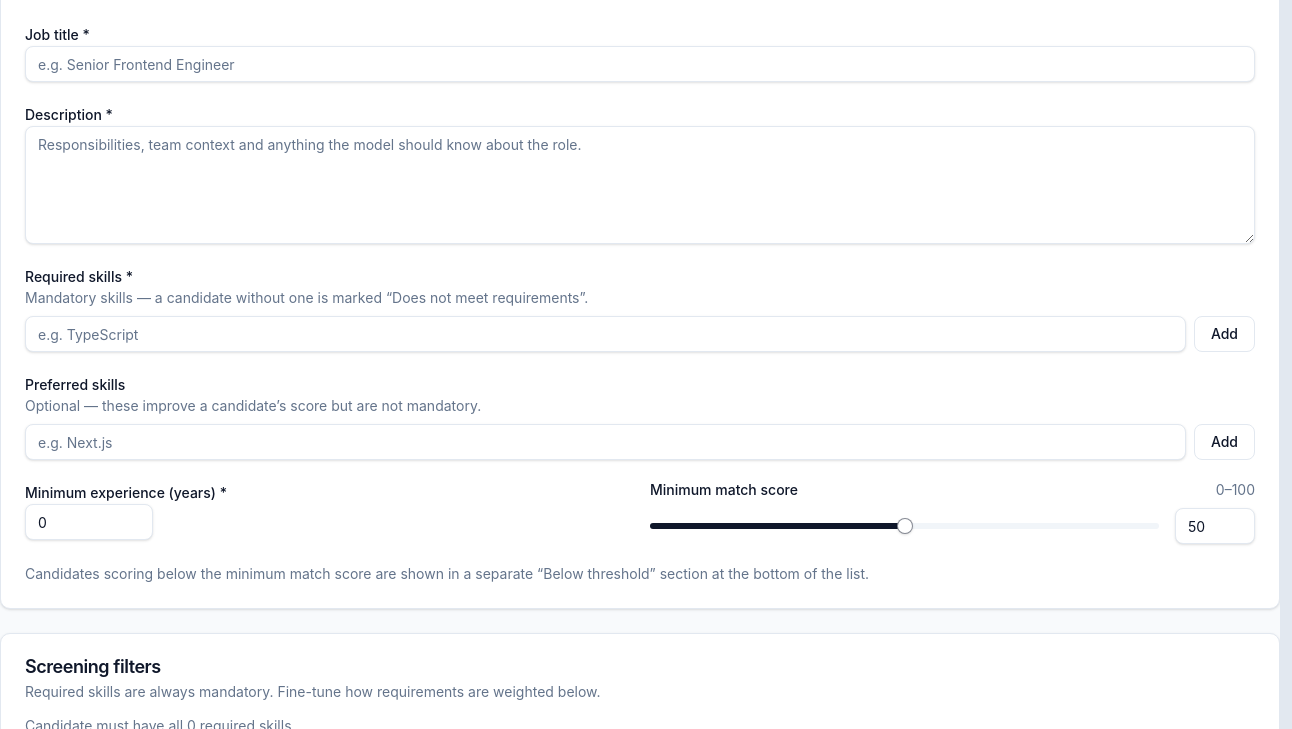
Test case: JobForm › maps backend field errors onto the form
Type "Frontend Engineer" into the field labelled "Job title *" at (640,64), box [25,46,1255,82]
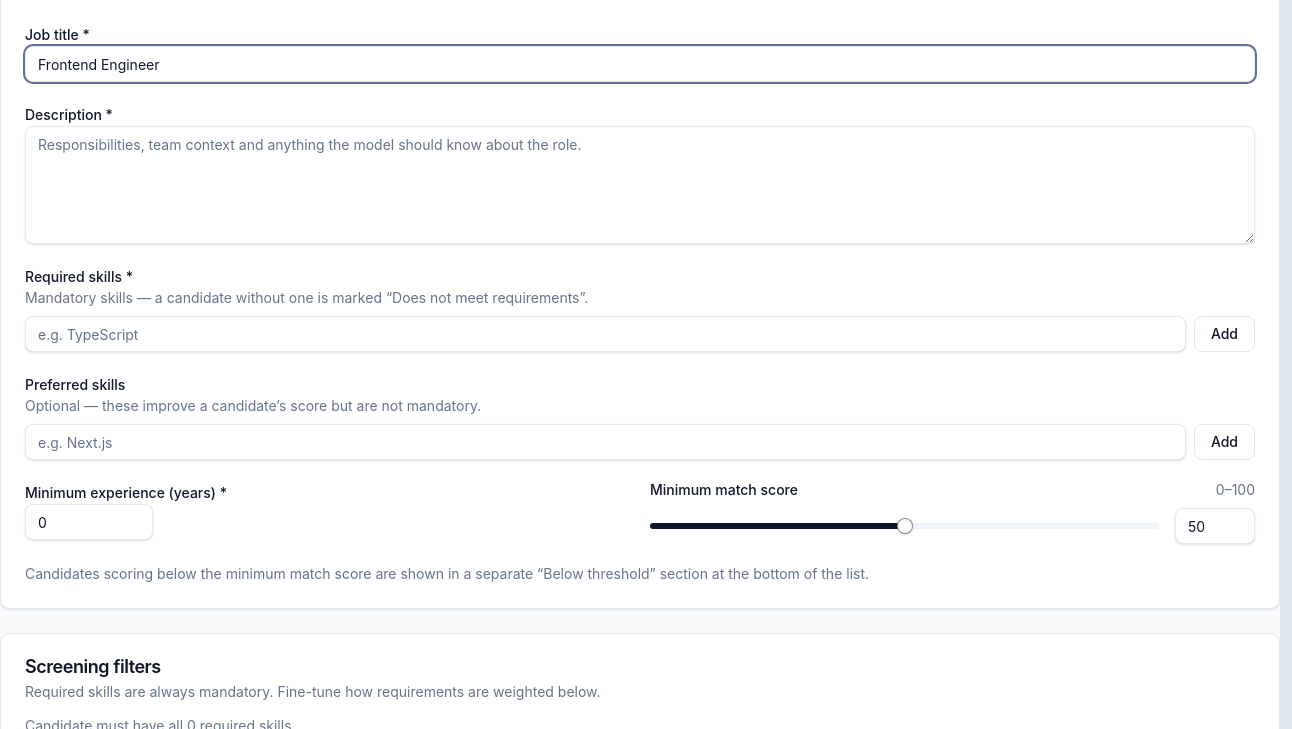
Type "Build the recruiter workspace." into the text box labelled "Description *" at (640,185), box [25,126,1255,244]
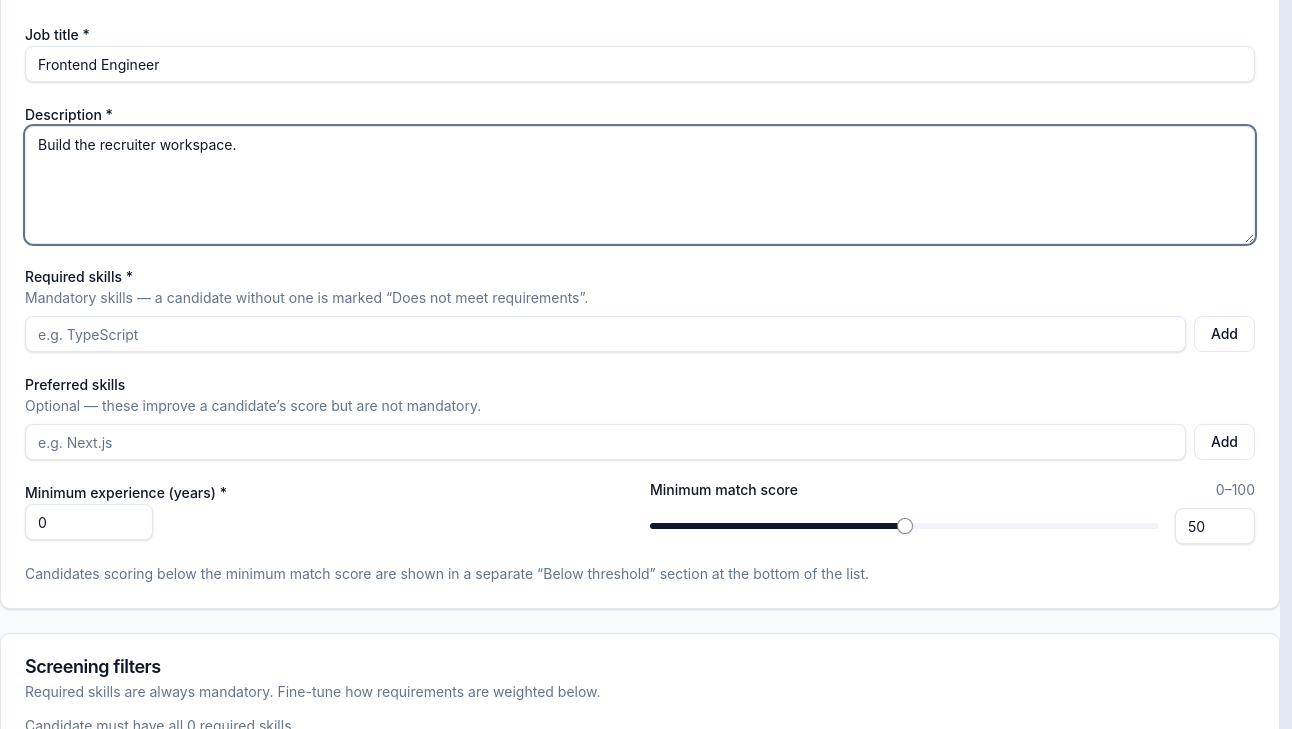
Type "React" into the field labelled "Required skills *" at (605,334), box [25,316,1186,352]
Then press Enter
(page scrolled)
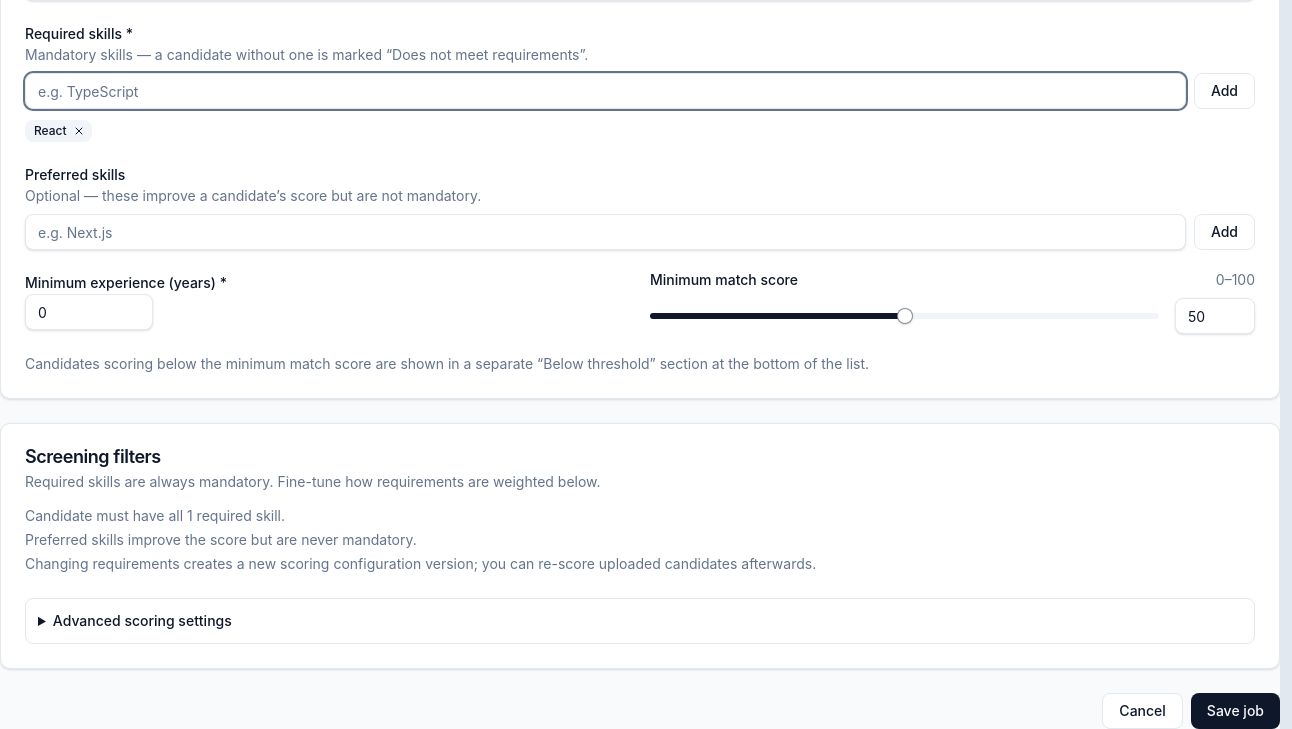
Click the button "Save job" at (1235,711), box [1191,693,1280,728]
(page scrolled)
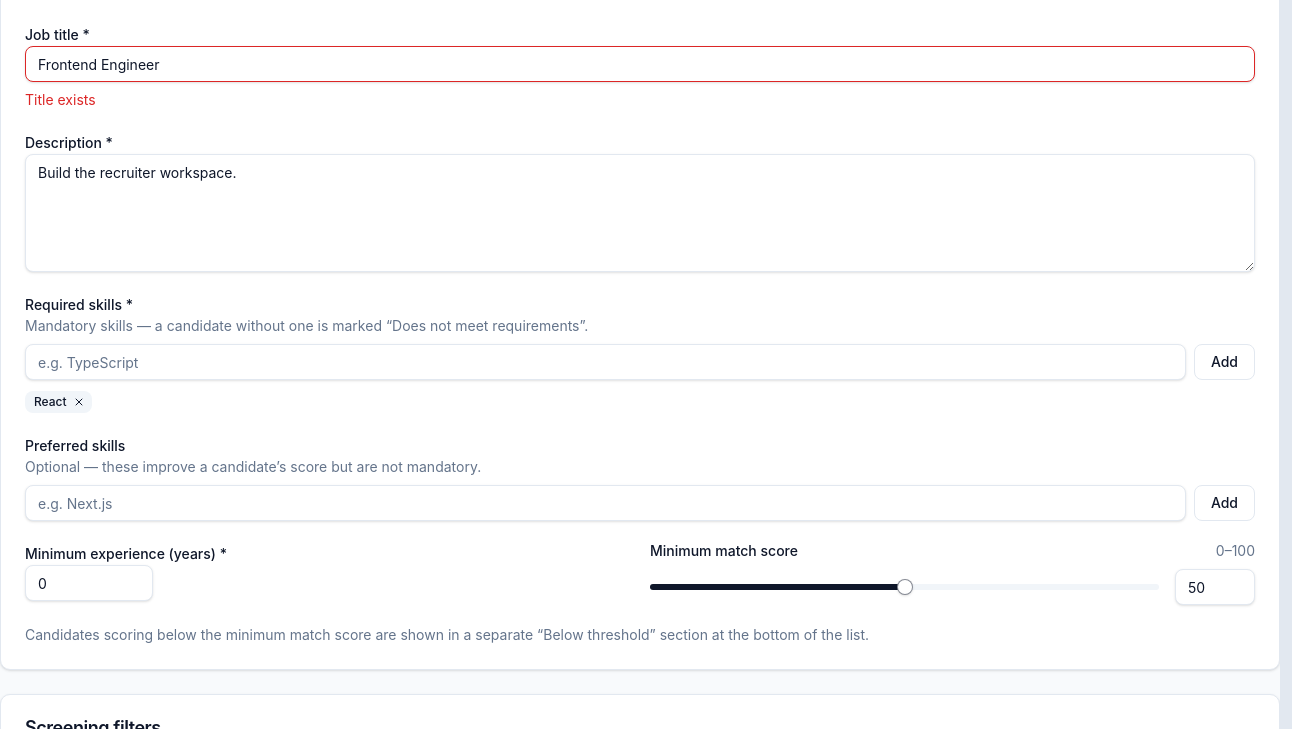
Now the text "Title exists" is shown, box [25,91,96,108]
